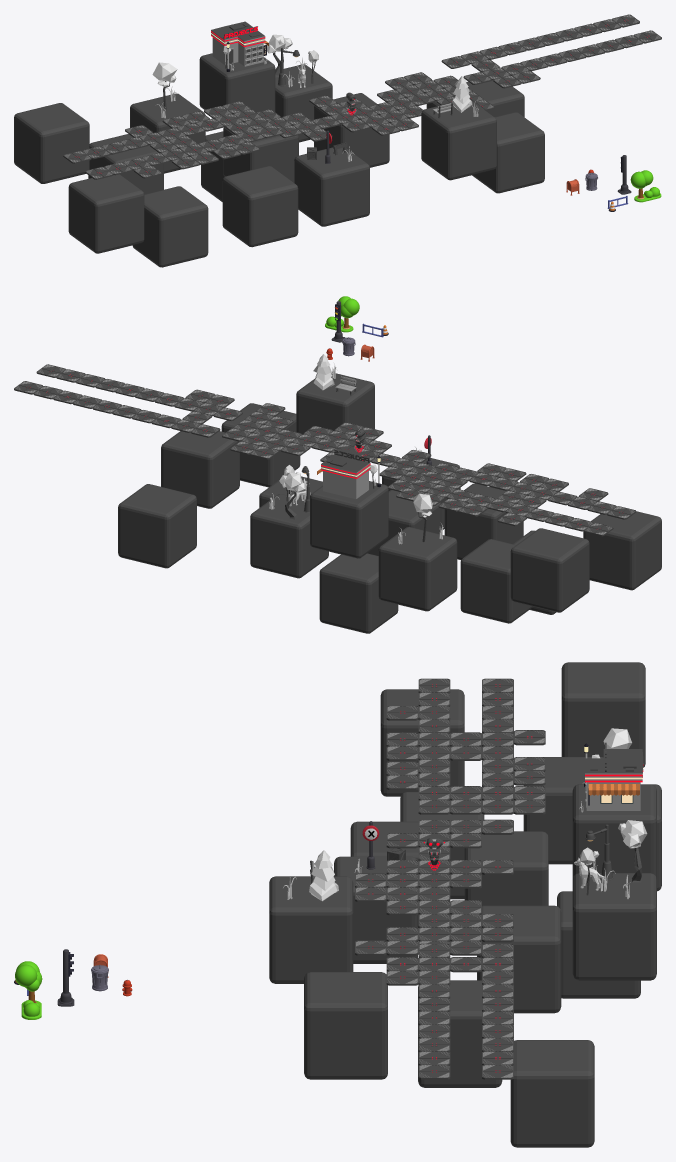
3 renders of one model, top to bottom at view 1: azimuth 30°, elevation 25°; view 2: azimuth 150°, elevation 25°; view 3: azimuth 270°, elevation 25°, orthographic. The views are drawn at different scales.
Parts seen in each view (by area): view 1: cubes background, Plane.026, Plane.025, Plane.032, Plane.031, Plane.003, Cube.024, Trees; view 2: cubes background, Plane.026, Plane.025, Plane.031, Plane.032, Plane.003, Cube.024, Trees; view 3: cubes background, Plane.025, Plane.031, Plane.026, Plane.032, Plane.003, Cube.024, Trees.
Part boxes in pixels (box(x1,y1,x2,y2)): cubes background: box(14, 53, 544, 267); Plane.026: box(441, 14, 639, 68); Plane.025: box(463, 30, 661, 84); Plane.032: box(63, 109, 261, 163); Plane.031: box(85, 125, 283, 179); Plane.003: box(279, 85, 472, 138); Cube.024: box(211, 21, 265, 66); Trees: box(630, 170, 661, 202); cubes background: box(118, 372, 661, 633); Plane.026: box(14, 381, 220, 437); Plane.025: box(36, 364, 242, 421); Plane.031: box(430, 463, 636, 519); Plane.032: box(407, 479, 613, 536); Plane.003: box(233, 419, 435, 474); Cube.024: box(321, 449, 370, 498); Trees: box(325, 296, 359, 332); cubes background: box(269, 662, 661, 1147); Plane.025: box(418, 943, 450, 1079); Plane.031: box(418, 678, 450, 814); Plane.026: box(482, 943, 513, 1079); Plane.032: box(482, 678, 513, 814); Plane.003: box(418, 819, 450, 944); Cube.024: box(585, 749, 643, 810); Trees: box(15, 961, 42, 1019).
Bounding box in the file's own units: 23.18 × 6.08 × 15.42.
Materials: 19 (9 with a texture image).
